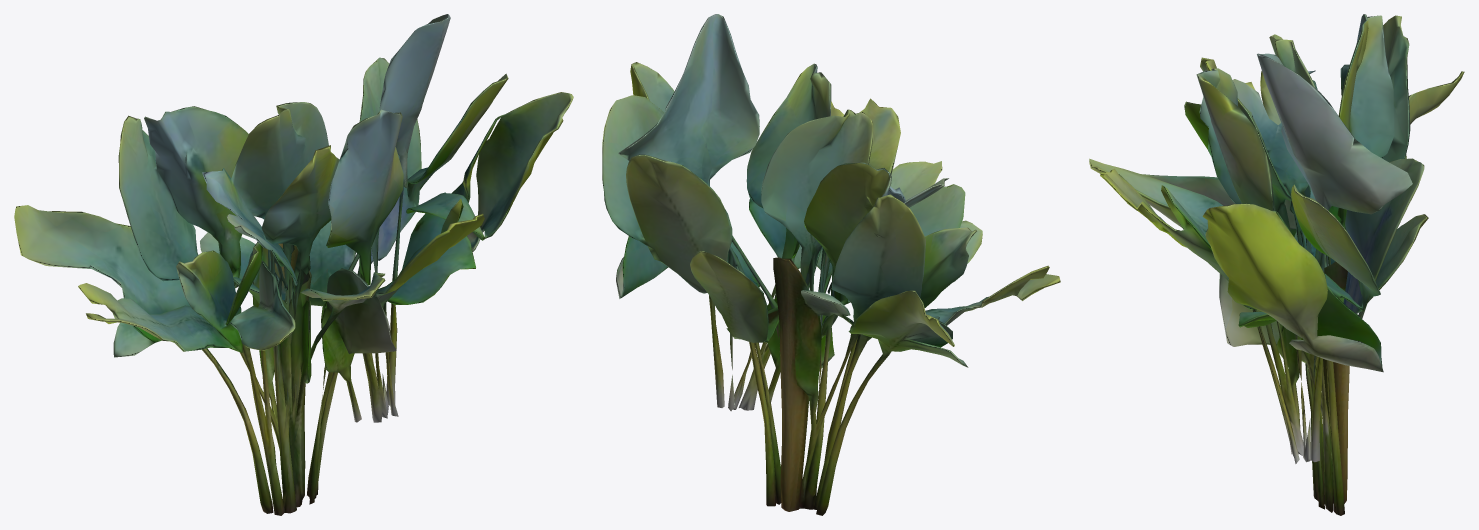
Rendered from pisang_palsu.glb.
3 renders of one model, left to right at view 1: azimuth 30°, elevation 25°; view 2: azimuth 150°, elevation 25°; view 3: azimuth 270°, elevation 25°, orthographic. The views are drawn at different scales.
Visible parts, largest first — view 1: tripo_node_df33864f-98e1-42ef-9705-bce9450db125; view 2: tripo_node_df33864f-98e1-42ef-9705-bce9450db125; view 3: tripo_node_df33864f-98e1-42ef-9705-bce9450db125.
Part boxes in pixels (x1,y1,x2,y2): tripo_node_df33864f-98e1-42ef-9705-bce9450db125: (14,14,573,515); tripo_node_df33864f-98e1-42ef-9705-bce9450db125: (602,14,1060,515); tripo_node_df33864f-98e1-42ef-9705-bce9450db125: (1089,14,1464,515).
Bounding box in the file's own units: 1 × 0.9717 × 0.6479.
1 material, 1 textured.
